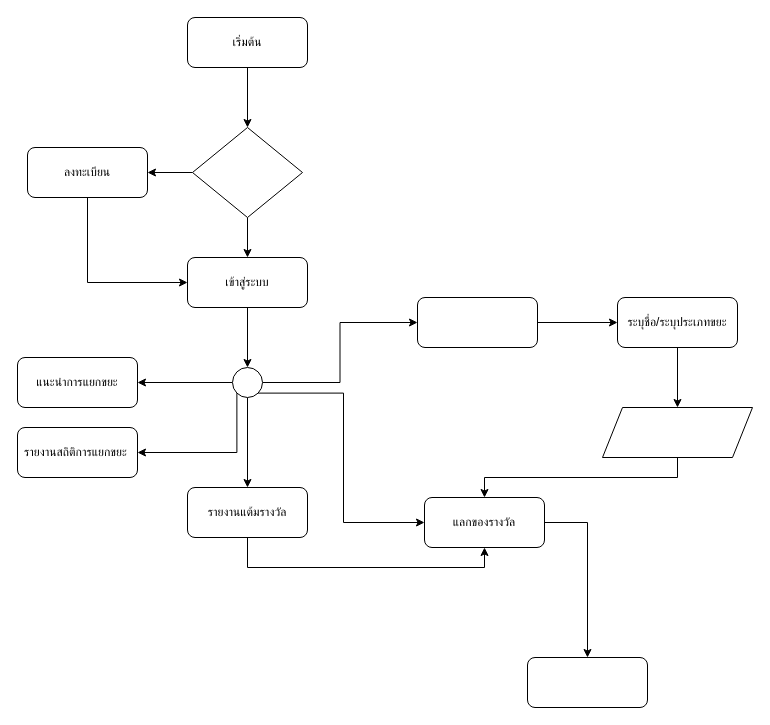
Image size: 770x725. Some labels were removed from this diagram. The shapes that lost their labels are listed below. From the top down, each one's centre as x and y in pixels, then its label:
At (247,172): "มีบัญชีแล้วหรือไม่".
At (477,322): "สแกน QR Code".
At (677,432): "บวกแต้มตามประเภทขยะ".
At (587,682): "จบ".
